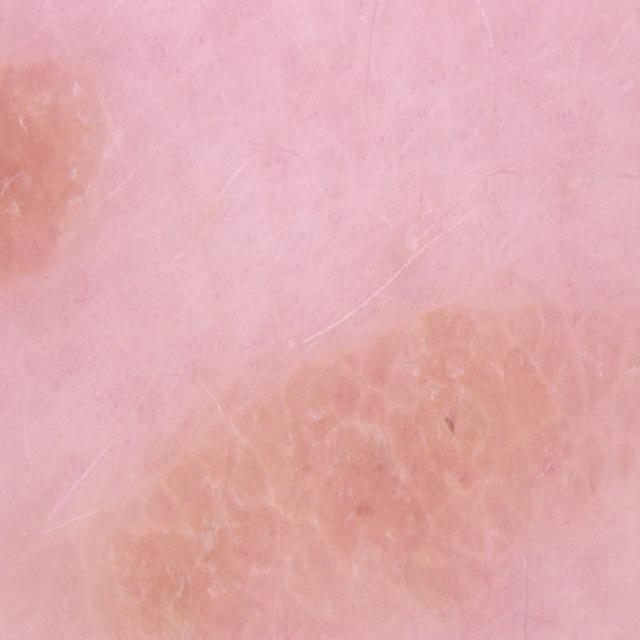Keratosis: (107, 410, 444, 640), (449, 281, 640, 551), (0, 65, 113, 291)
